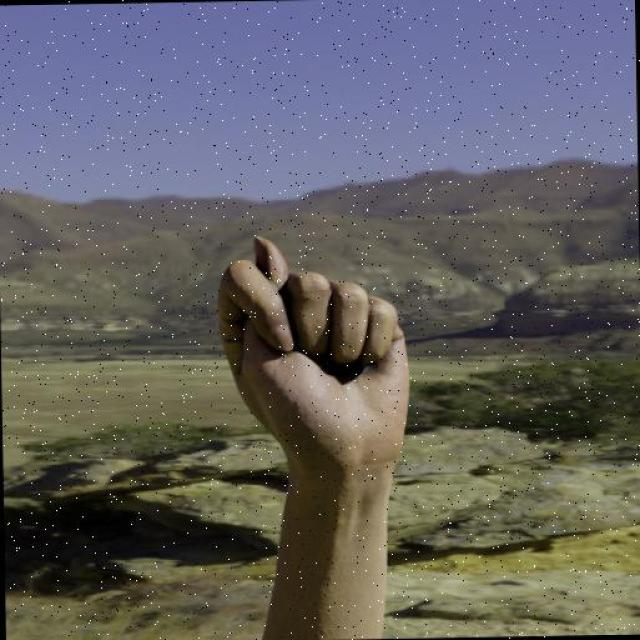T: (206, 227, 419, 485)
